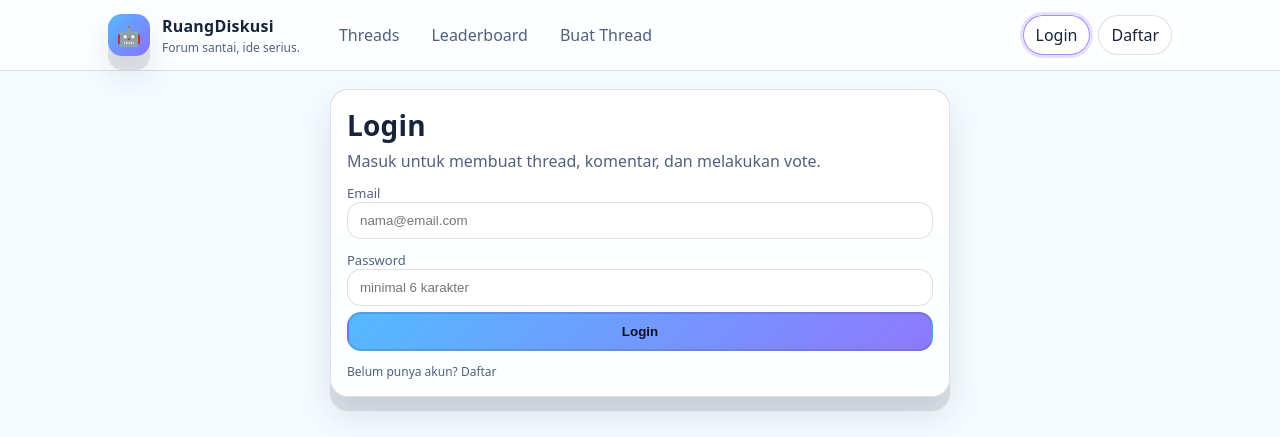
Test: Login Flow › harus berhasil login dan redirect ke halaman threads
This screenshot has width=1280, height=437.
Type "user@test.com" into the field with id "email".
click(640, 221); type("user@test.com")  # box [347,202,933,239]
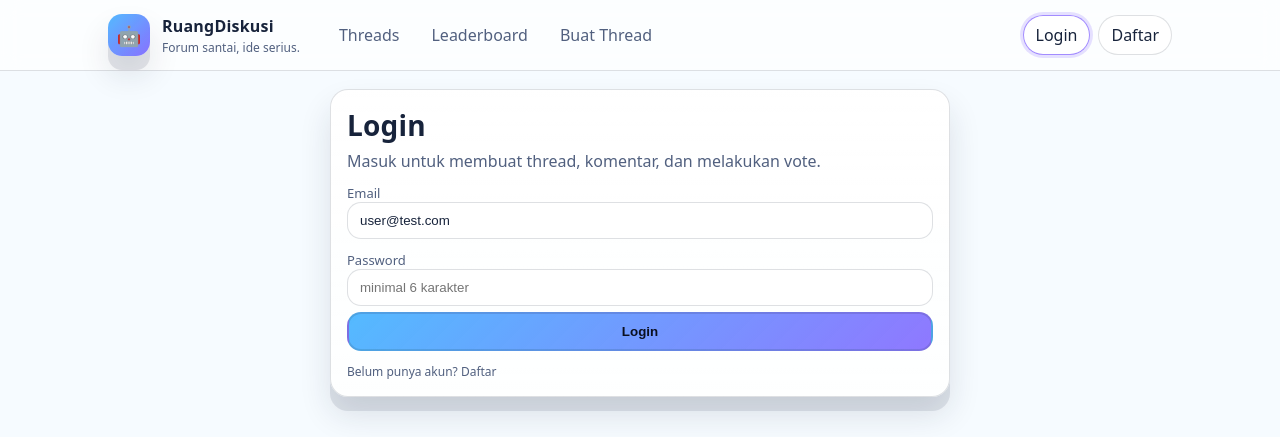
Type "password123" into the password field labelled "Password".
click(640, 288); type("password123")  # box [347,269,933,306]
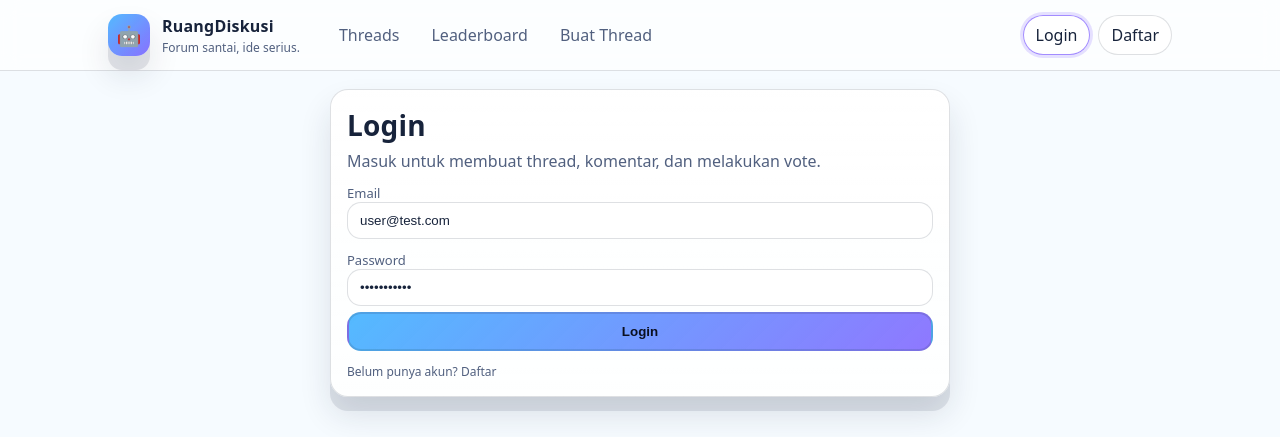
Click the button "Login".
click(640, 332)  # box [347,312,933,351]
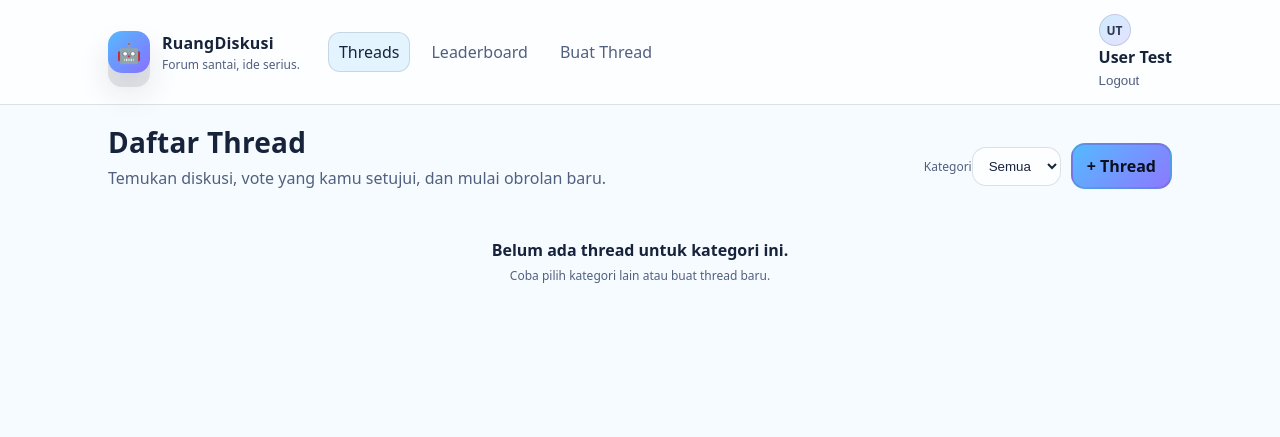
Check: the heading "Daftar Thread" is shown, box [108,123,306,161]
